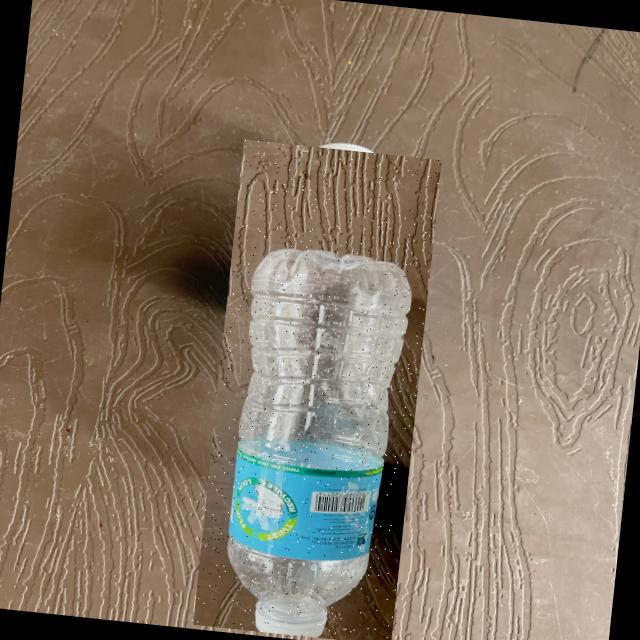REJECT: (192, 139, 441, 640)
